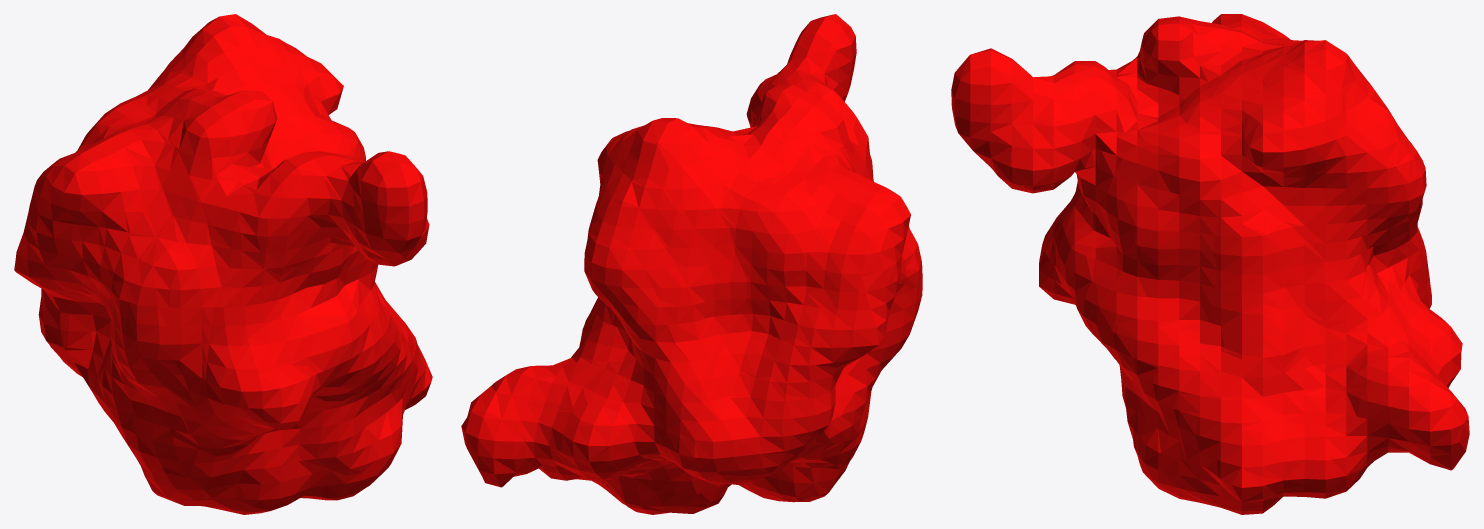
File: plaP_coarse.dae
3 views of the same model, side by side, from view 1: azimuth 30°, elevation 25°; view 2: azimuth 150°, elevation 25°; view 3: azimuth 270°, elevation 25° (orthographic). The views are drawn at different scales.
Visible parts, largest first — view 1: plaP; view 2: plaP; view 3: plaP.
Part boxes in pixels (x1,y1,x2,y2): plaP: (14, 14, 432, 514); plaP: (461, 14, 922, 514); plaP: (951, 14, 1469, 514).
Bounding box in the file's own units: 59.78 × 64.65 × 70.42.
